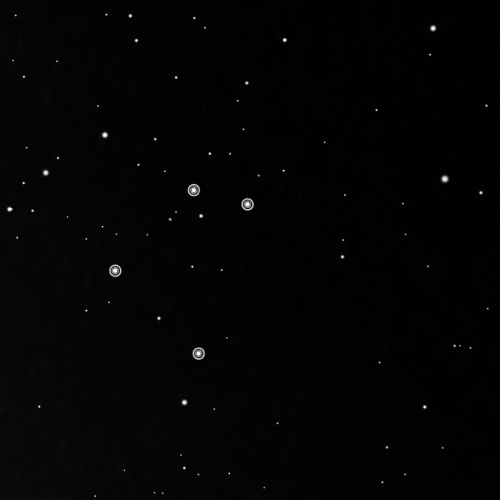coma_berenices: (104, 182, 260, 365)
